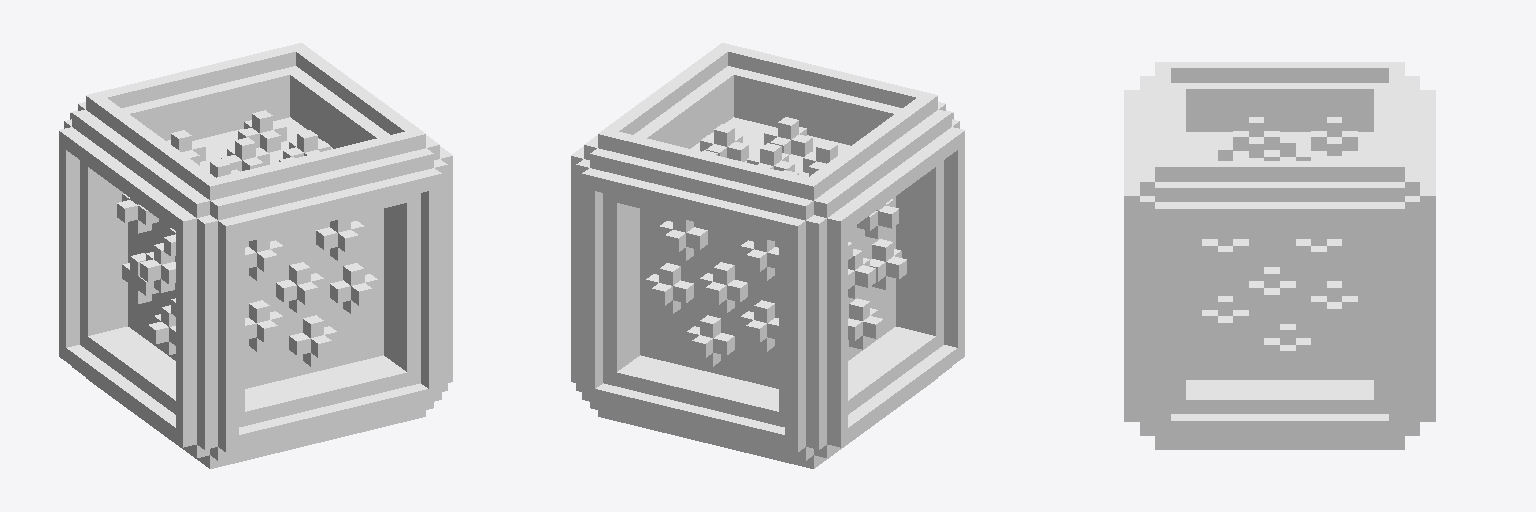
The model's file is bonusBox.obj.
3 renders of one model, left to right at view 1: azimuth 30°, elevation 25°; view 2: azimuth 150°, elevation 25°; view 3: azimuth 270°, elevation 25°, orthographic.
Visible parts, largest first — view 1: object 1; view 2: object 1; view 3: object 1.
Part boxes in pixels (bbox=[...]): object 1: bbox=[59, 43, 452, 468]; object 1: bbox=[571, 43, 964, 468]; object 1: bbox=[1124, 62, 1435, 449].
Bounding box in the file's own units: 2 × 2 × 2.